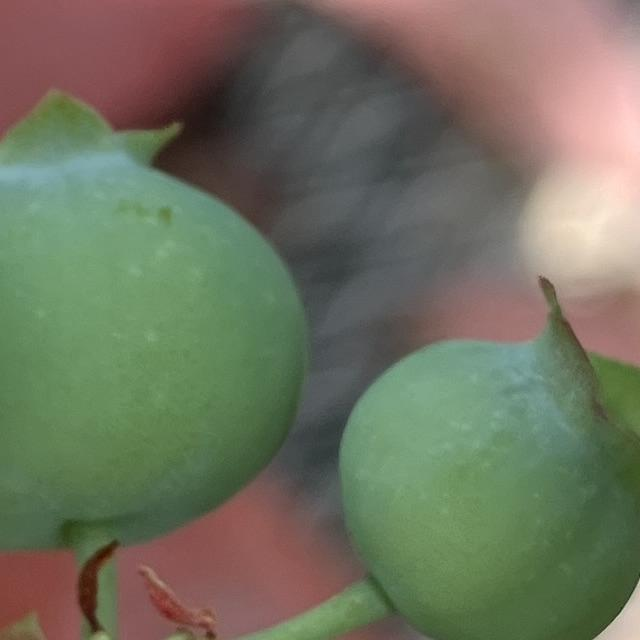Blueberries: (0, 84, 308, 562), (334, 273, 640, 640)
